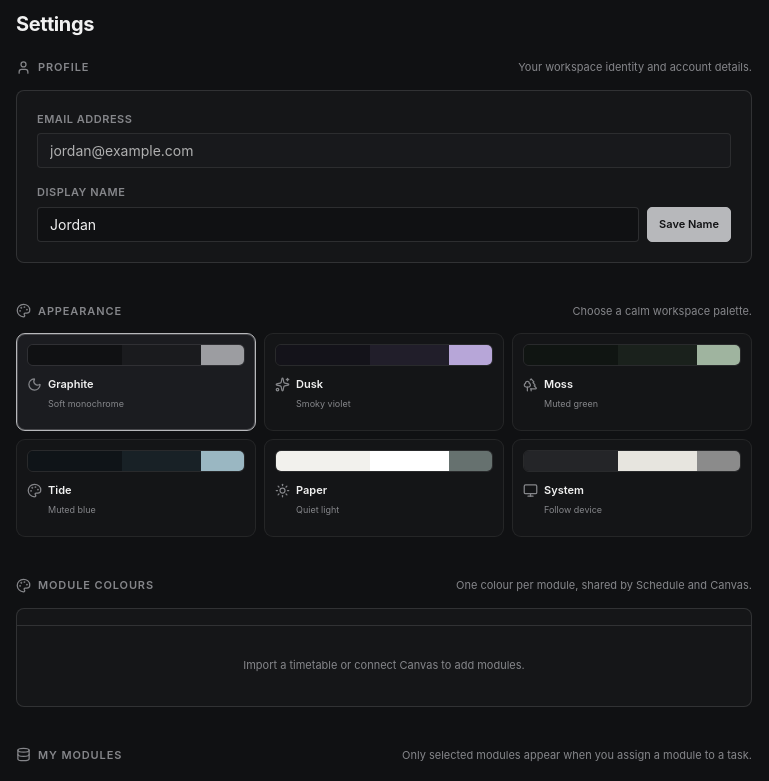
Test: SettingsView Enhancements › allows updating profile display name
The width and height of the screenshot is (769, 781).
Expected: the field named "Email Address" holds "jordan@example.com", x1=37 y1=133 x2=731 y2=168
Replace the text in the field labelled "Display Name" with "Jordan Lee" at (338, 224), box x1=37 y1=206 x2=639 y2=242
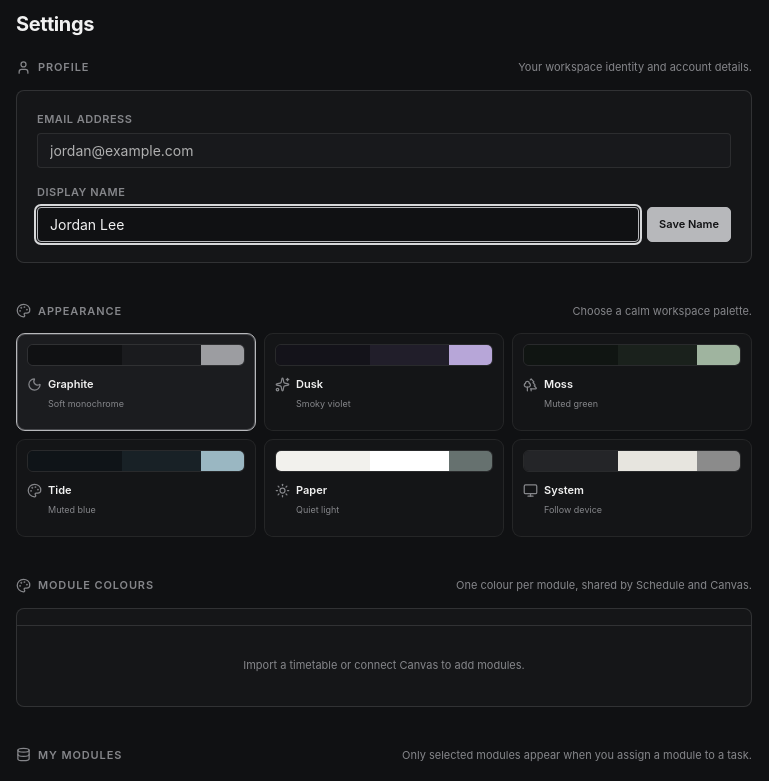
Click the button "Save Name" at (689, 224), box x1=647 y1=206 x2=731 y2=242
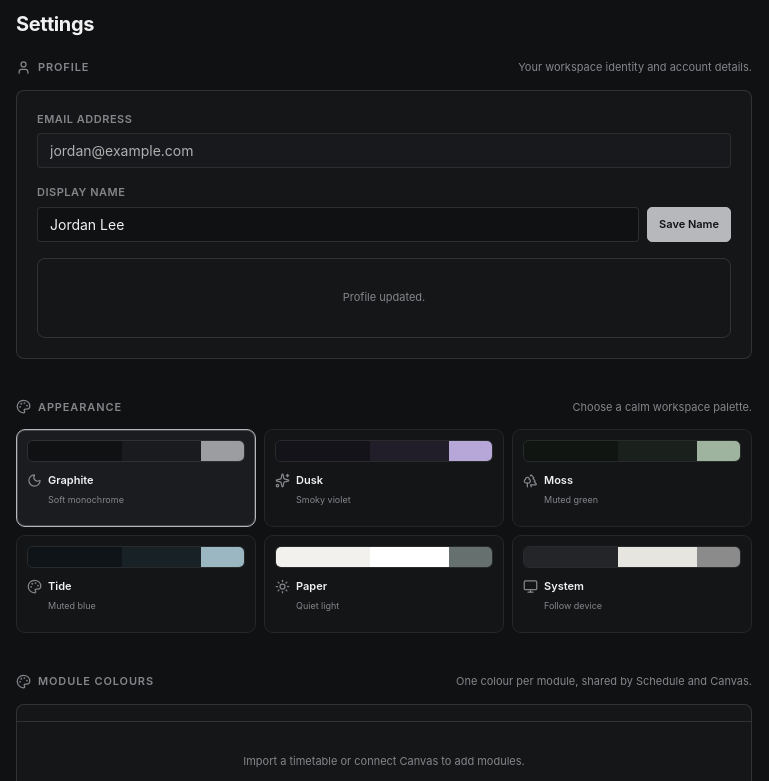
Expected: the text "Profile updated." is shown, x1=37 y1=258 x2=731 y2=338
